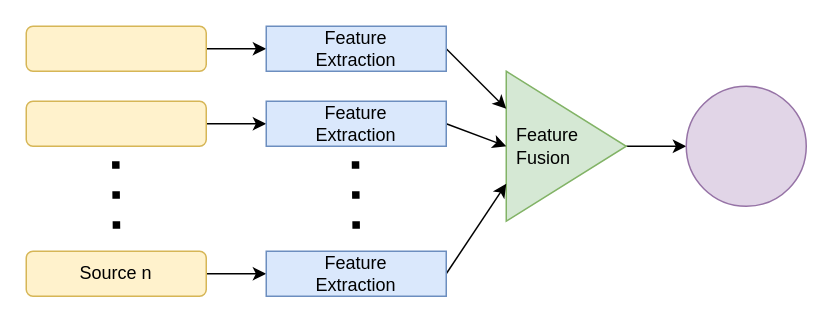
Some shapes in this 833 by 323 pixel diagram are drawn without their labels. Each missing label, with the box of its shape:
Decision: (685, 85, 806, 206)
Source 1: (25, 25, 206, 71)
Source 2: (25, 100, 206, 146)
